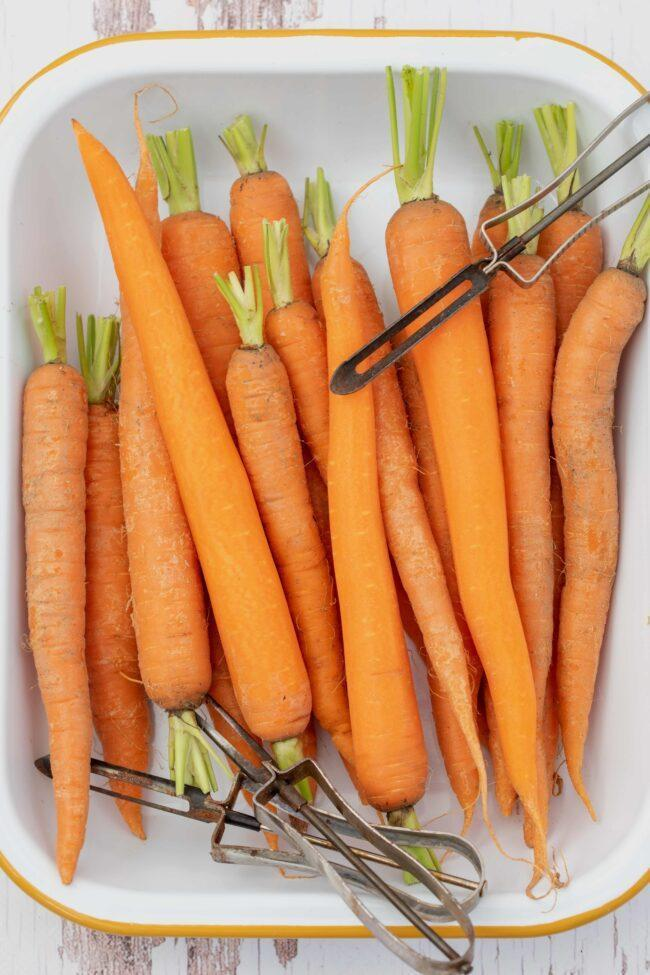carrot: (59, 190, 578, 824), (63, 124, 412, 766), (348, 196, 621, 873), (13, 349, 97, 917)
